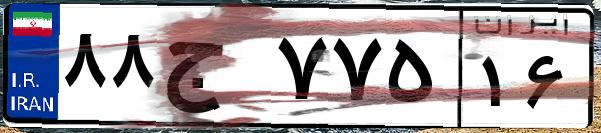1: (475, 38, 525, 113)
5: (385, 28, 445, 110)
6: (525, 38, 570, 115)
7: (270, 28, 330, 110), (330, 28, 385, 110)
8: (57, 26, 110, 100), (110, 28, 158, 98)
ج: (158, 20, 270, 120)
